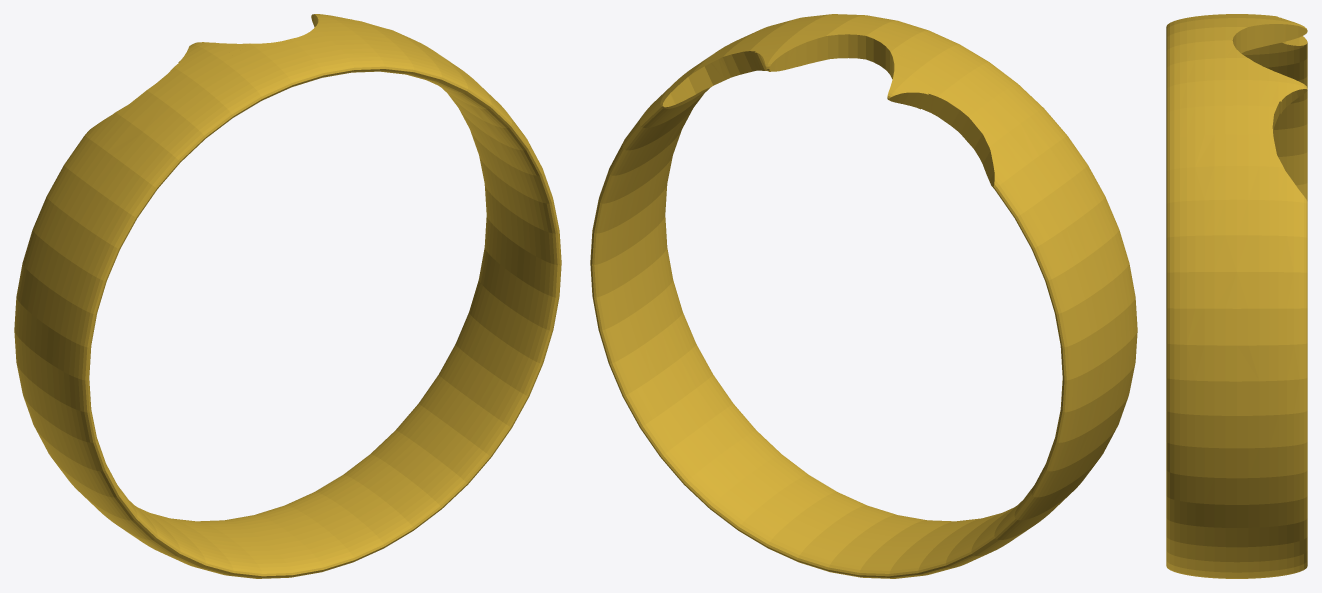
File: band-5.0mm.glb
The picture shows the model from 3 angles, left to right: view 1: azimuth 30°, elevation 25°; view 2: azimuth 150°, elevation 25°; view 3: azimuth 270°, elevation 25°; orthographic projection.
Visible parts, largest first — view 1: band-5.0mm; view 2: band-5.0mm; view 3: band-5.0mm.
Boxes of the visible parts, x1=… form: band-5.0mm: x1=14, y1=14, x2=561, y2=578; band-5.0mm: x1=590, y1=14, x2=1137, y2=578; band-5.0mm: x1=1166, y1=14, x2=1307, y2=578.
Bounding box in the file's own units: 20 × 20 × 5.
